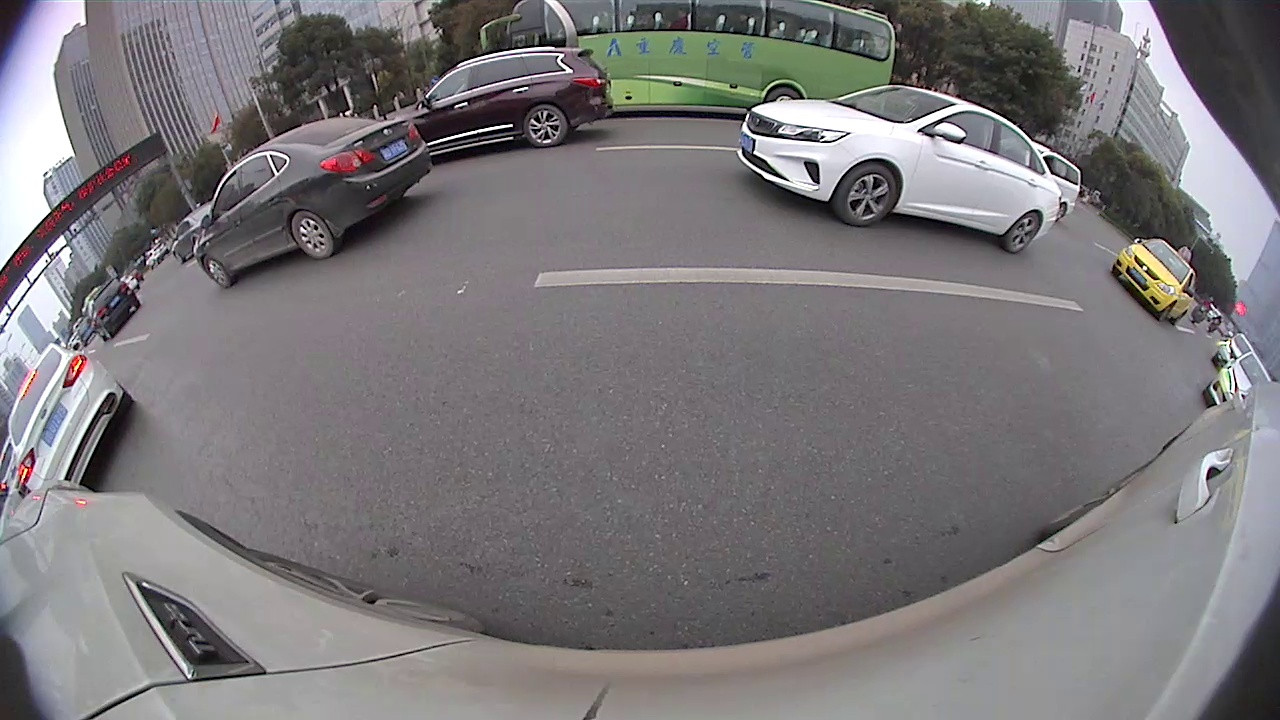bus: (476, 2, 901, 115)
car: (733, 82, 1062, 260), (188, 113, 433, 292), (403, 43, 613, 161), (4, 340, 136, 491), (1109, 233, 1200, 326), (1200, 346, 1273, 410)
front: (834, 162, 899, 228), (203, 254, 230, 288)
rear: (290, 209, 333, 261), (524, 104, 570, 148), (1005, 211, 1041, 252)
